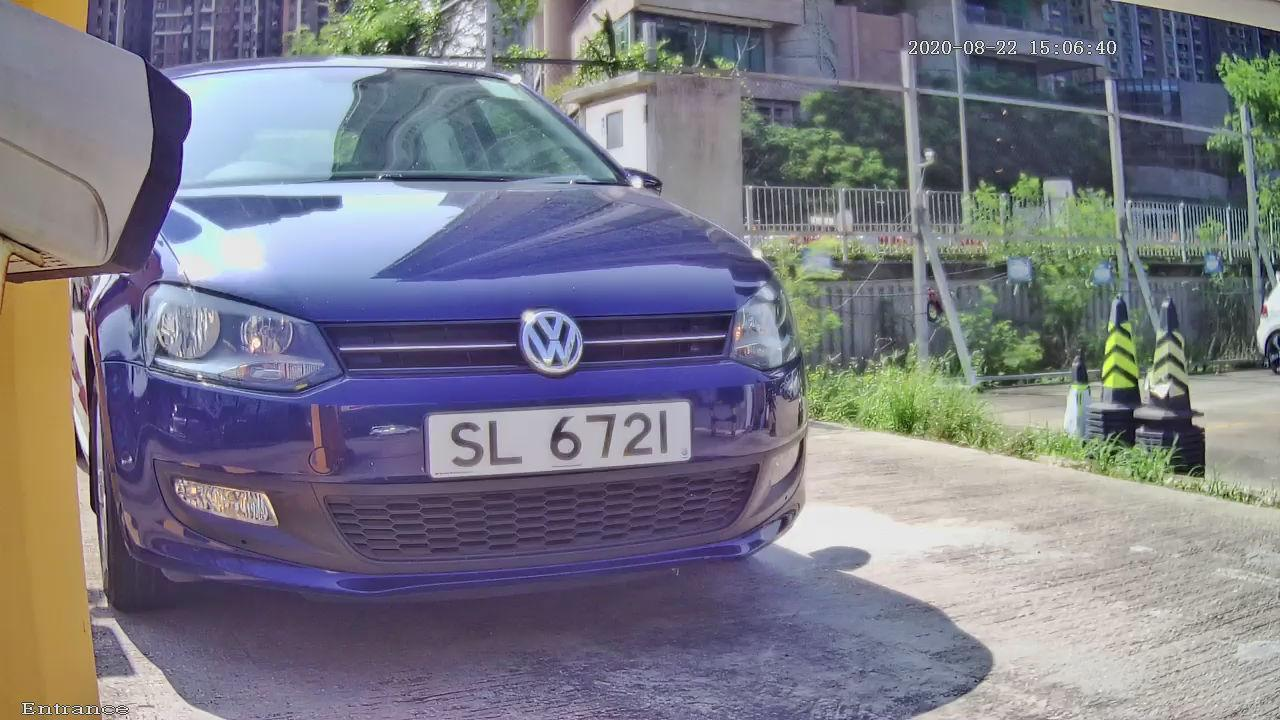Car: (23, 23, 863, 650)
License Plate: (391, 371, 758, 498)
